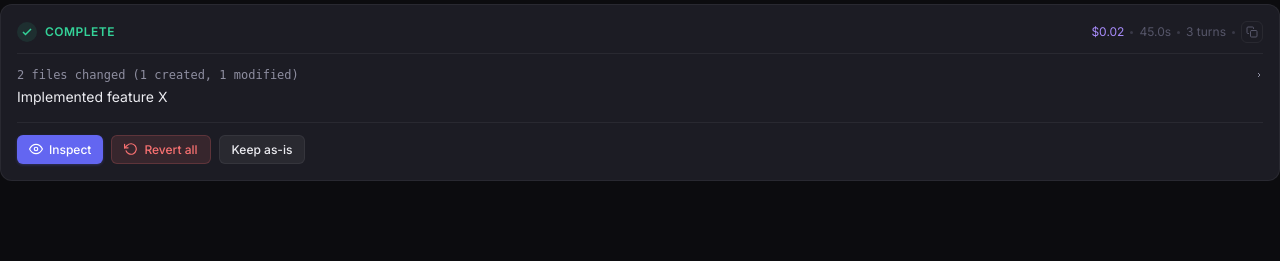
Test: CompletionCard › files changed › expands file list on click
This screenshot has width=1280, height=261.
What coordinates should you click on to do the following:
click the button "2 files changed (1 created, 1 modified)"
I would click on:
 (42, 75)
Its box is x1=17 y1=64 x2=1263 y2=86.
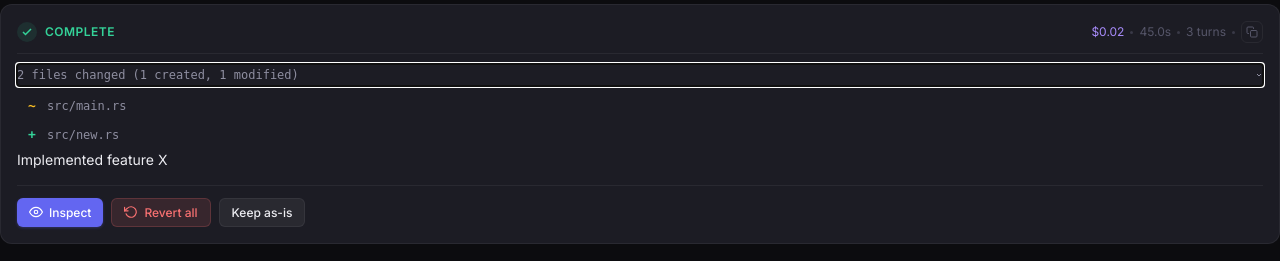
Result: the text "src/main.rs" is shown at x1=47 y1=97 x2=126 y2=115
Result: the text "src/new.rs" is shown at x1=47 y1=126 x2=119 y2=144
